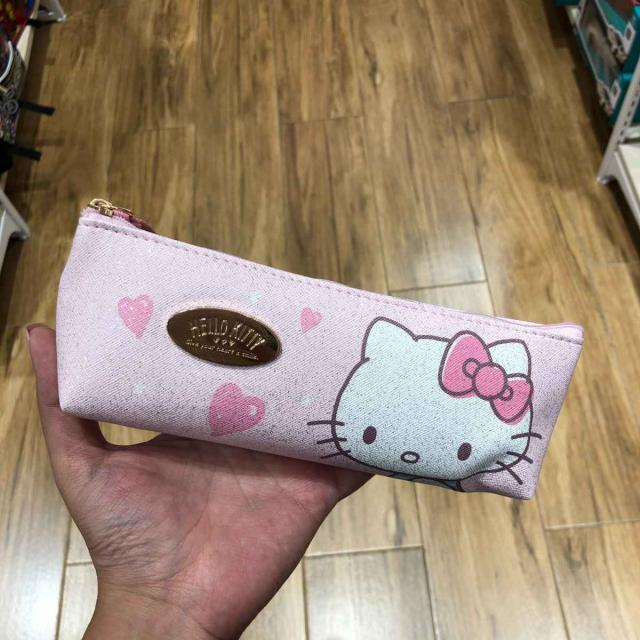Handbag: (41, 188, 594, 508)
